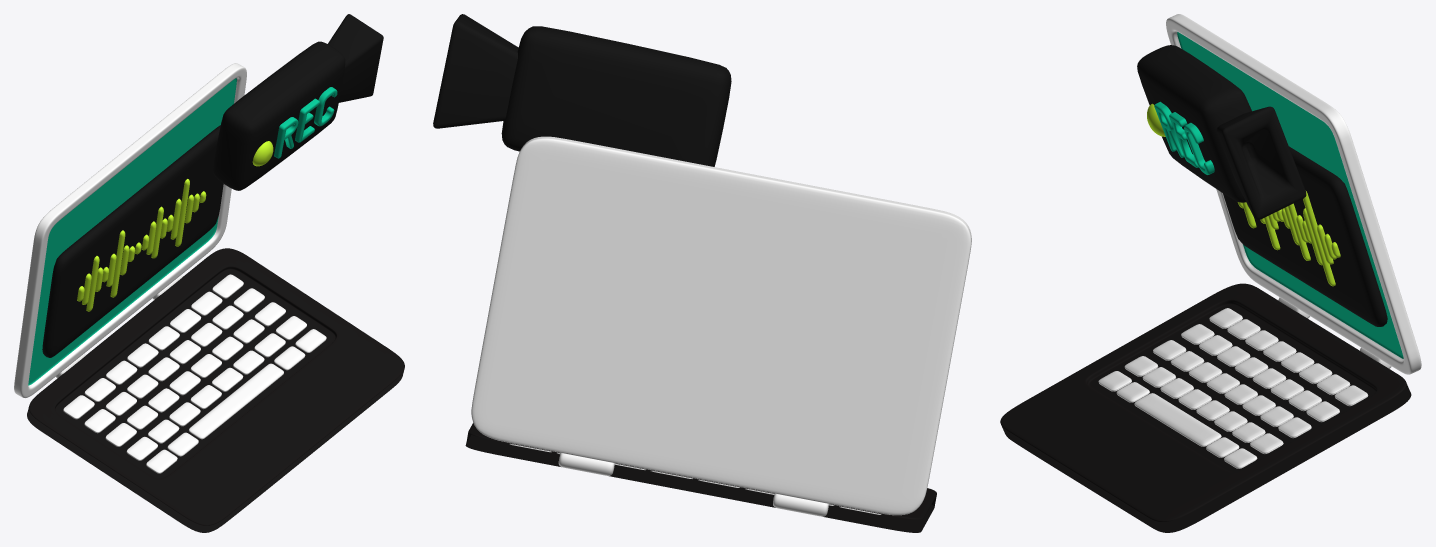
File: recording-software-3d-animated-icon-901353661845.glb
3 views of the same model, side by side, from view 1: azimuth 30°, elevation 25°; view 2: azimuth 150°, elevation 25°; view 3: azimuth 270°, elevation 25° (orthographic). The views are drawn at different scales.
Visible parts, largest first — view 1: Plane.147, Plane.148, Plane.151, Plane.150, Cube, Plane.145, Cube.028, Extrude; view 2: Plane.145, Cube, Cube.028, Plane.147, Cylinder.160; view 3: Plane.147, Plane.148, Plane.145, Plane.151, Plane.150, Cube, Cube.028, Extrude, Plane.016.
Part boxes in pixels (x1=…): Plane.147: x1=27, y1=248, x2=404, y2=532; Plane.148: x1=63, y1=274, x2=326, y2=473; Plane.151: x1=42, y1=125, x2=223, y2=357; Plane.150: x1=28, y1=78, x2=236, y2=385; Cube: x1=213, y1=41, x2=345, y2=190; Plane.145: x1=14, y1=63, x2=246, y2=398; Cube.028: x1=328, y1=14, x2=383, y2=102; Extrude: x1=274, y1=87, x2=337, y2=158; Plane.145: x1=471, y1=136, x2=971, y2=515; Cube: x1=501, y1=26, x2=731, y2=166; Cube.028: x1=433, y1=14, x2=518, y2=128; Plane.147: x1=465, y1=423, x2=936, y2=532; Cylinder.160: x1=558, y1=453, x2=828, y2=516; Plane.147: x1=1000, y1=283, x2=1411, y2=532; Plane.148: x1=1098, y1=308, x2=1368, y2=468; Plane.145: x1=1166, y1=14, x2=1421, y2=374; Plane.151: x1=1223, y1=146, x2=1387, y2=326; Plane.150: x1=1177, y1=32, x2=1403, y2=358; Cube: x1=1137, y1=45, x2=1251, y2=202; Cube.028: x1=1216, y1=106, x2=1306, y2=219; Extrude: x1=1154, y1=101, x2=1214, y2=174; Plane.016: x1=1303, y1=191, x2=1335, y2=286.
Bounding box in the file's own units: 5.37 × 5.27 × 4.23.
